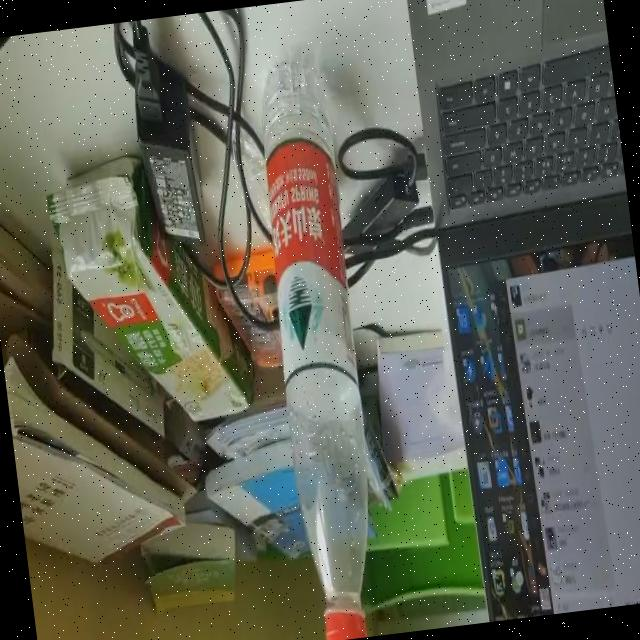bottle: (243, 39, 390, 640)
cap: (313, 600, 382, 640)
label: (252, 134, 362, 386)
